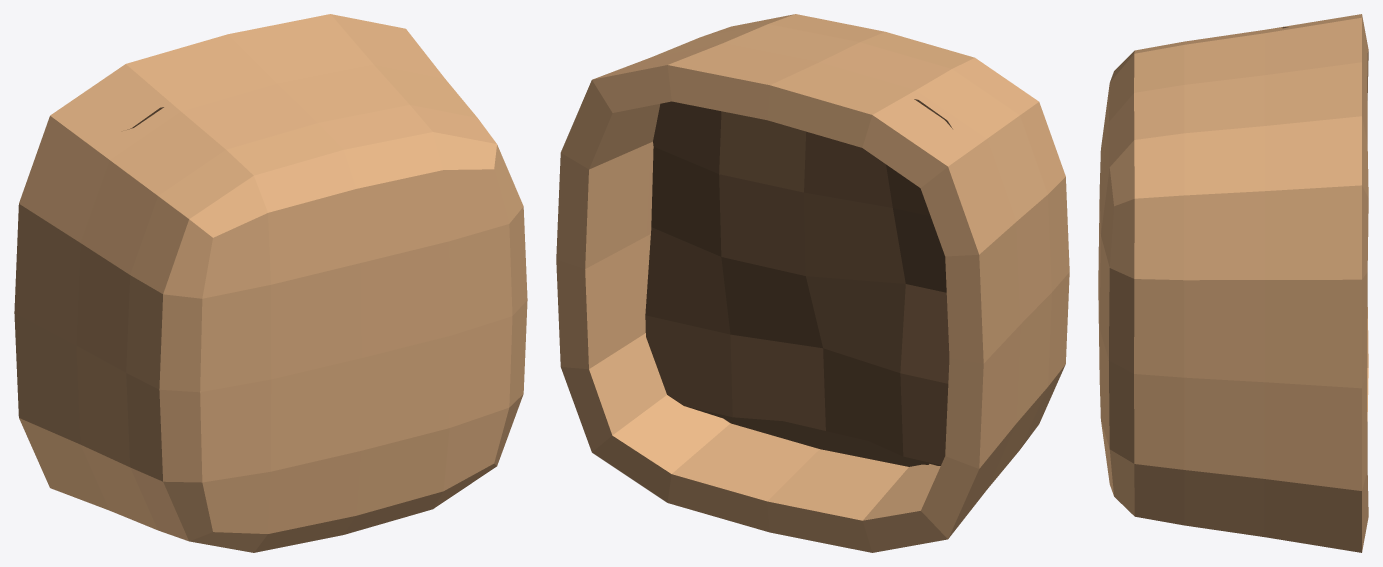
File: Foodbowl.fbx
3 views of the same model, side by side, from view 1: azimuth 30°, elevation 25°; view 2: azimuth 150°, elevation 25°; view 3: azimuth 270°, elevation 25° (orthographic).
Visible parts, largest first — view 1: Cube.002; view 2: Cube.002; view 3: Cube.002.
Part boxes in pixels (x1,y1,x2,y2): Cube.002: [14, 14, 527, 552]; Cube.002: [556, 14, 1069, 552]; Cube.002: [1098, 14, 1368, 552].
Size of the model in its own units: 277 by 277 by 154.
